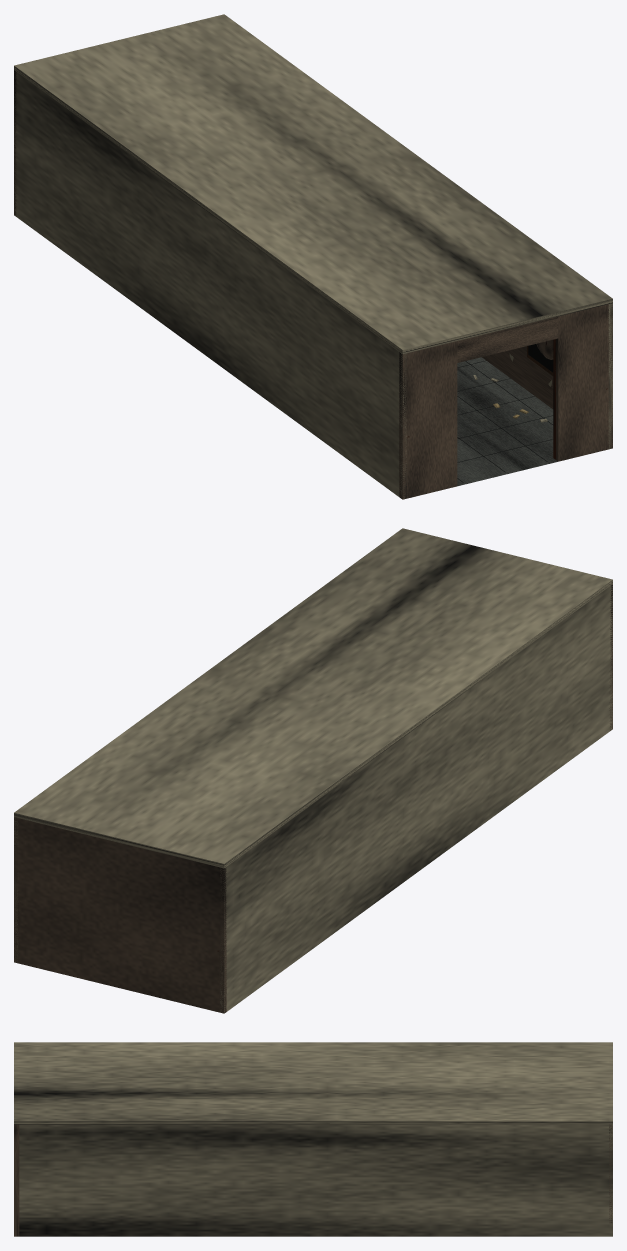
File: gallery.glb
3 renders of one model, top to bottom at view 1: azimuth 30°, elevation 25°; view 2: azimuth 150°, elevation 25°; view 3: azimuth 270°, elevation 25°, orthographic. The views are drawn at different scales.
Visible parts, largest first — view 1: static-plaster, static-paint, static-stone, static-dark; view 2: static-plaster, static-paint; view 3: static-plaster, static-paint.
Boxes of the visible parts, <box> form: static-plaster: <box>14,14,612,499</box>; static-paint: <box>14,70,612,499</box>; static-stone: <box>457,357,557,486</box>; static-dark: <box>457,344,553,482</box>; static-plaster: <box>14,528,612,1013</box>; static-paint: <box>14,584,612,1013</box>; static-plaster: <box>14,1042,612,1236</box>; static-paint: <box>14,1124,612,1236</box>.
Bounding box in the file's own units: 5 × 3.4 × 16.
Materials: 14 (10 with a texture image).
